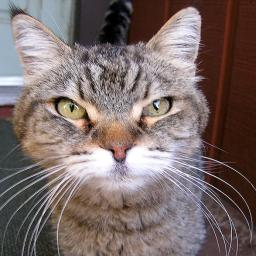catnose: (97, 135, 143, 164)
